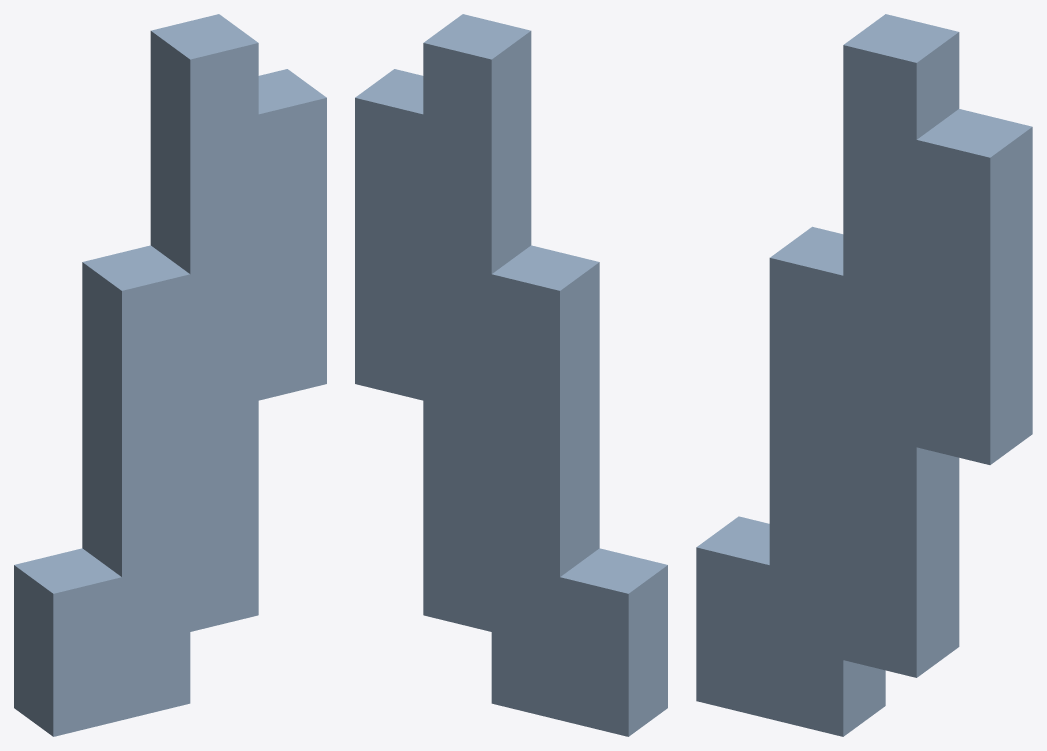
File: Broken Scissors3.fbx
3 views of the same model, side by side, from view 1: azimuth 30°, elevation 25°; view 2: azimuth 150°, elevation 25°; view 3: azimuth 330°, elevation 25° (orthographic). The views are drawn at different scales.
Parts seen in each view (by area): view 1: generated; view 2: generated; view 3: generated.
Boxes of the visible parts, x1,y1,x2,y2 form: generated: (14,14,326,736); generated: (355,14,667,736); generated: (696,14,1032,736).
Bounding box in the file's own units: 40 × 90 × 10.
